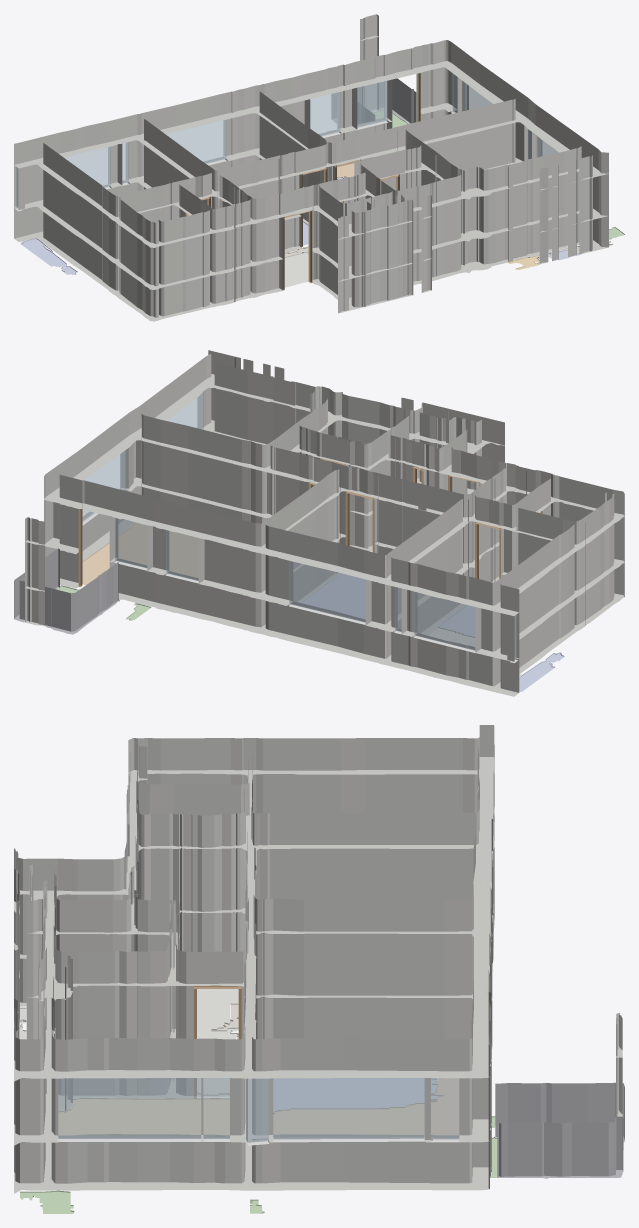
3 renders of one model, top to bottom at view 1: azimuth 30°, elevation 25°; view 2: azimuth 150°, elevation 25°; view 3: azimuth 270°, elevation 25°, orthographic. The views are drawn at different scales.
Visible parts, largest first — view 1: walls, window_11, railings, window_14, window_13, window_9, floor_30_Undefined, floor_14_Bed_Room, door_7, window_17; view 2: walls, railings, window_11, floor_8_Living_Room, window_9, floor_11_Bed_Room, window_14, window_13, window_17, window_20, floor_13_Bed_Room, floor_14_Bed_Room (+1 smaller); view 3: walls, railings, window_17, window_20, floor_5_Kitchen, floor_8_Living_Room, floor_12_Bed_Room, floor_30_Undefined, window_15, window_19, window_18, floor_0_Outdoor (+2 smaller).
Part boxes in pixels (left/top/right/bottom): walls: left=14, top=14, right=608, bottom=321; window_11: left=165, top=117, right=226, bottom=163; railings: left=331, top=78, right=416, bottom=123; window_14: left=357, top=81, right=387, bottom=127; window_13: left=310, top=92, right=340, bottom=136; window_9: left=65, top=147, right=110, bottom=187; floor_30_Undefined: left=284, top=246, right=308, bottom=287; floor_14_Bed_Room: left=21, top=238, right=77, bottom=274; door_7: left=283, top=210, right=312, bottom=290; window_17: left=463, top=78, right=494, bottom=110; walls: left=25, top=350, right=624, bottom=696; railings: left=14, top=548, right=118, bottom=634; window_11: left=289, top=559, right=367, bottom=622; floor_8_Living_Room: left=82, top=522, right=198, bottom=585; window_9: left=414, top=592, right=475, bottom=650; floor_11_Bed_Room: left=301, top=573, right=365, bottom=619; window_14: left=115, top=514, right=150, bottom=568; window_13: left=166, top=527, right=201, bottom=580; window_17: left=82, top=444, right=126, bottom=521; window_20: left=162, top=391, right=203, bottom=429; floor_13_Bed_Room: left=438, top=605, right=474, bottom=636; floor_14_Bed_Room: left=519, top=652, right=564, bottom=691; walls: left=14, top=725, right=622, bottom=1193; railings: left=495, top=1082, right=624, bottom=1178; window_17: left=273, top=1074, right=424, bottom=1138; window_20: left=58, top=1078, right=201, bottom=1138; floor_5_Kitchen: left=58, top=1098, right=229, bottom=1135; floor_8_Living_Room: left=273, top=1078, right=458, bottom=1134; floor_12_Bed_Room: left=273, top=1078, right=441, bottom=1112; floor_30_Undefined: left=197, top=989, right=238, bottom=1094; window_15: left=431, top=1078, right=459, bottom=1138; window_19: left=203, top=1078, right=229, bottom=1138; window_18: left=247, top=1078, right=268, bottom=1142; floor_0_Outdoor: left=20, top=1190, right=74, bottom=1213.
Bounding box in the file's own units: 13.81 × 2.72 × 10.38.
